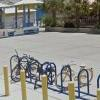Bicycle: (9, 47, 59, 93)
